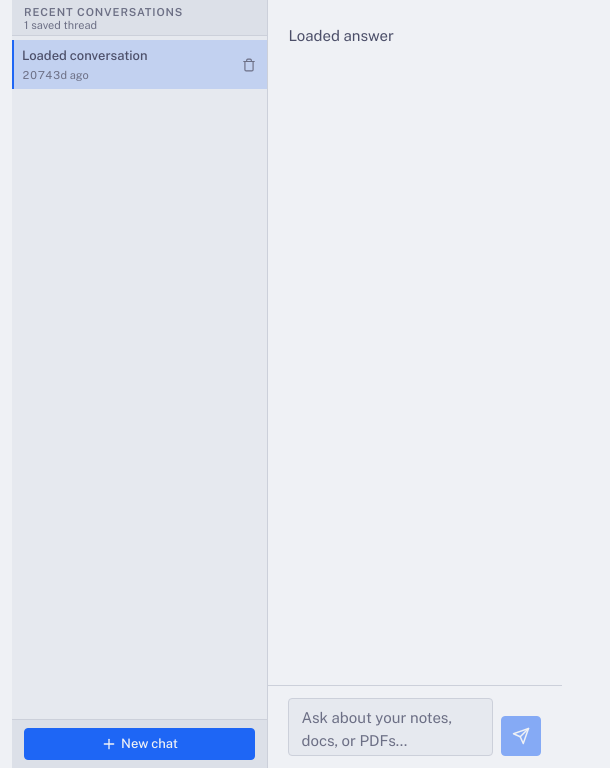
Test: Chat page › interrupted_stream_appends_stop_note_once_and_still_persists
In the text box with placeholder "Ask about your notes, docs, or PDFs…": (391, 727) [290,699,492,755], type "What changed?"
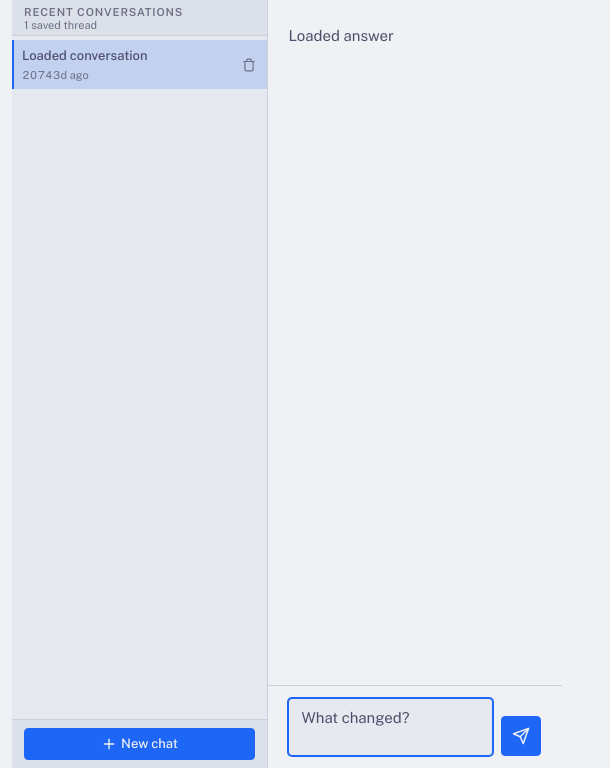
Click the button named "Send message": (522, 736) [502,716,542,756]
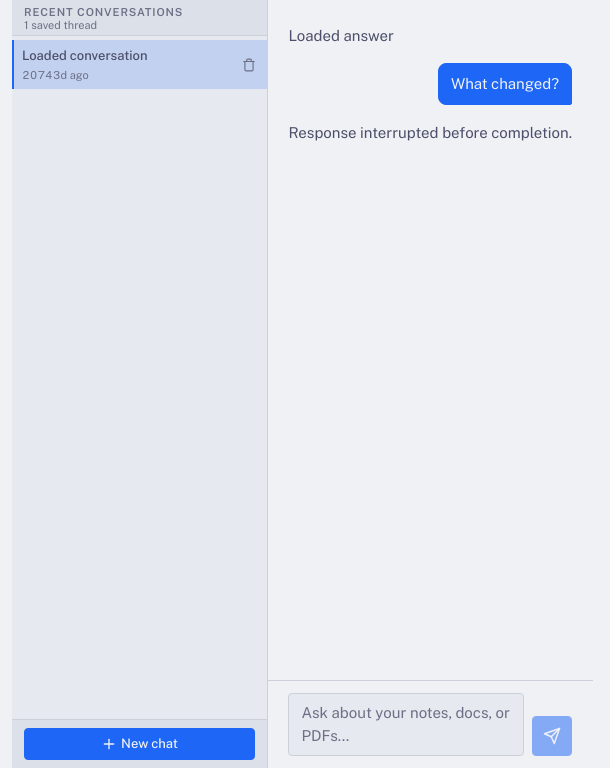
expect the text "Response interrupted before completion." is shown: met, box [288,120,572,144]
